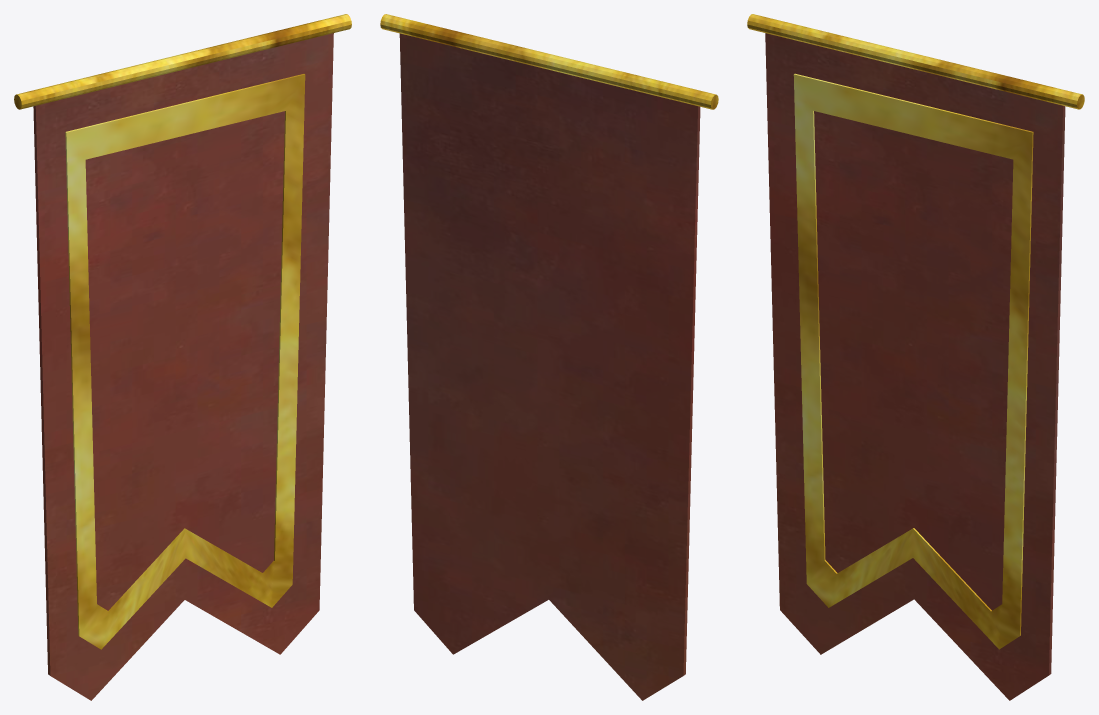
The model's file is GodotBanner.glb.
The picture shows the model from 3 angles, left to right: view 1: azimuth 30°, elevation 25°; view 2: azimuth 150°, elevation 25°; view 3: azimuth 330°, elevation 25°; orthographic projection.
Visible parts, largest first — view 1: Banner, BannerDec, BannerPole; view 2: Banner, BannerPole; view 3: Banner, BannerDec, BannerPole.
Part boxes in pixels (<box>): Banner: <box>33,33,333,700</box>; BannerDec: <box>65,74,305,649</box>; BannerPole: <box>14,14,351,109</box>; Banner: <box>399,33,700,700</box>; BannerPole: <box>380,14,718,109</box>; Banner: <box>765,33,1065,700</box>; BannerDec: <box>793,73,1033,649</box>; BannerPole: <box>747,14,1084,109</box>.
Bounding box in the file's own units: 2.21 × 3.98 × 0.0908.
Materials: 1 (1 with a texture image).
